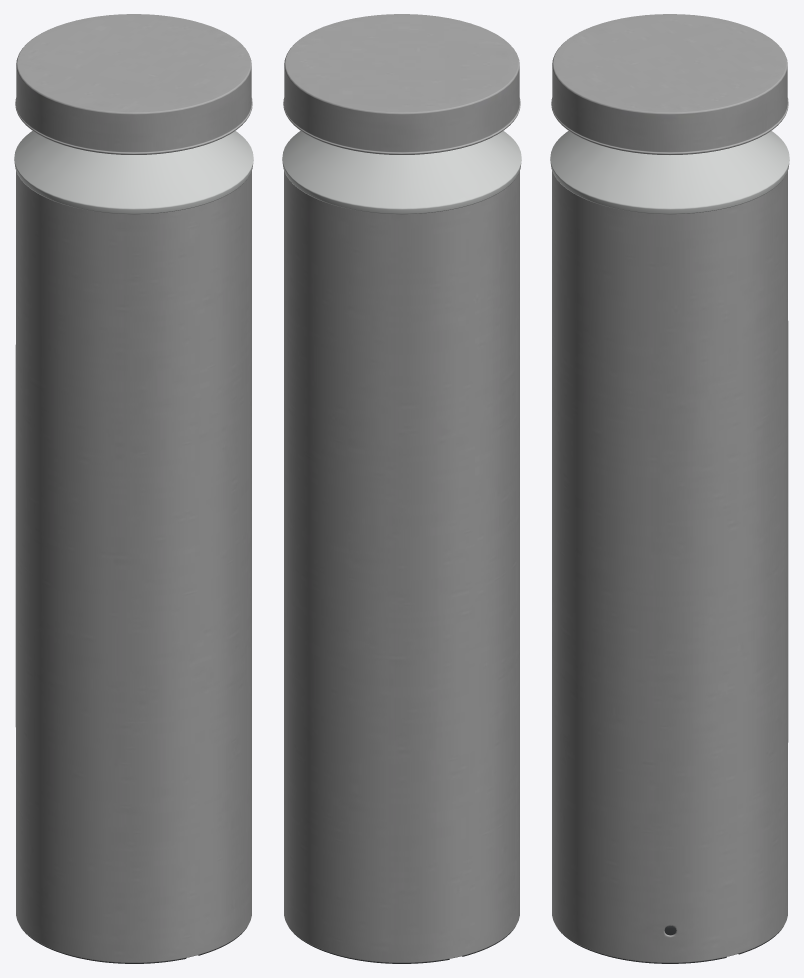
The model's file is abo-B089L9ZJD9.glb.
3 renders of one model, left to right at view 1: azimuth 30°, elevation 25°; view 2: azimuth 150°, elevation 25°; view 3: azimuth 270°, elevation 25°, orthographic.
Size of the model in its own units: 0.102 by 0.4 by 0.102.
1 material, 1 textured.
